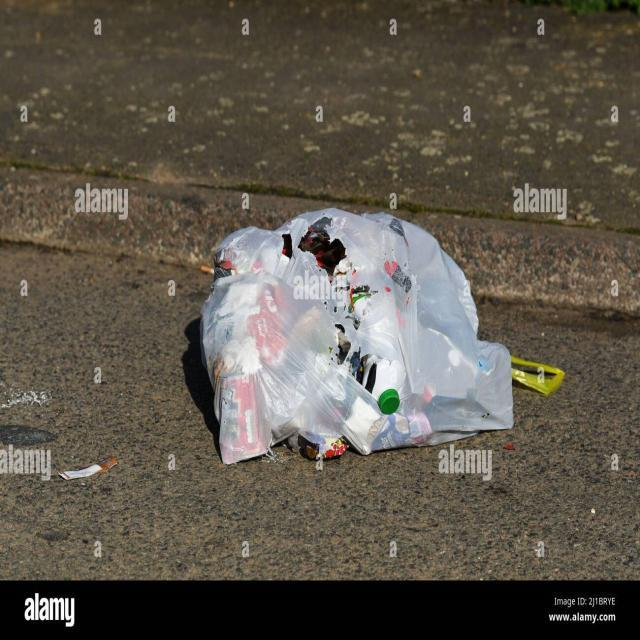Garbage_Bag: (180, 192, 542, 481)
